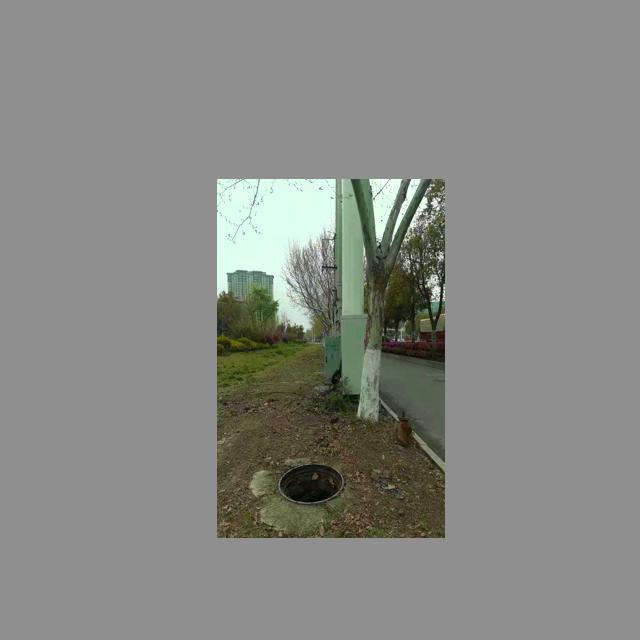lose: (277, 462, 343, 504)
